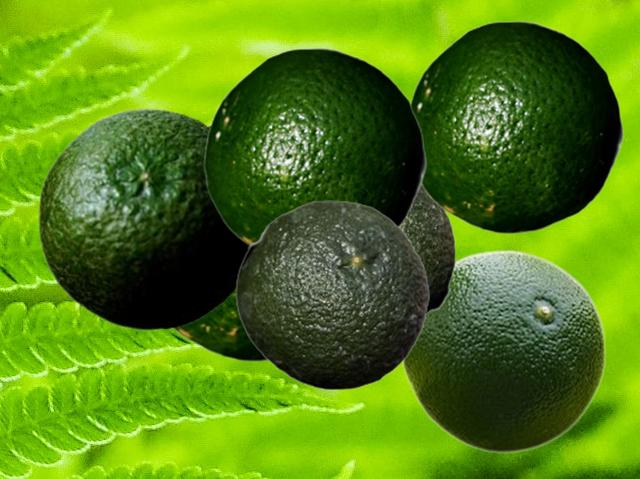calamansi: (37, 107, 246, 330), (409, 20, 623, 233), (203, 47, 426, 247), (400, 249, 606, 452), (235, 200, 429, 389), (170, 121, 267, 361), (401, 187, 455, 316)
